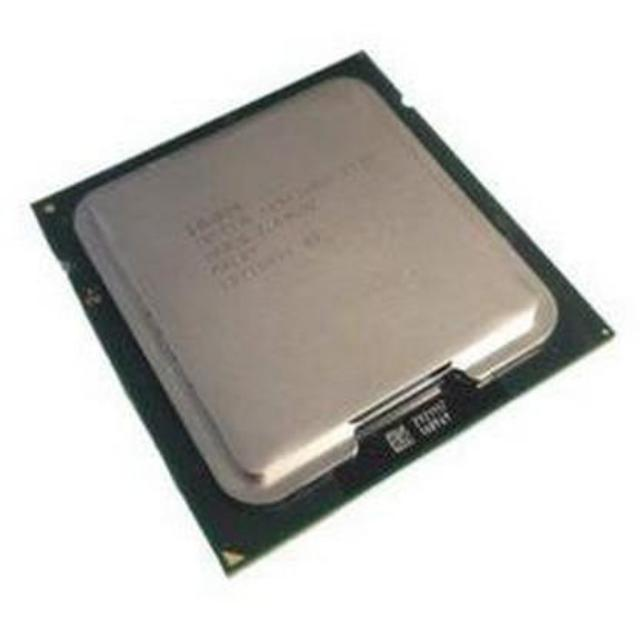CPU: (50, 72, 568, 514)
